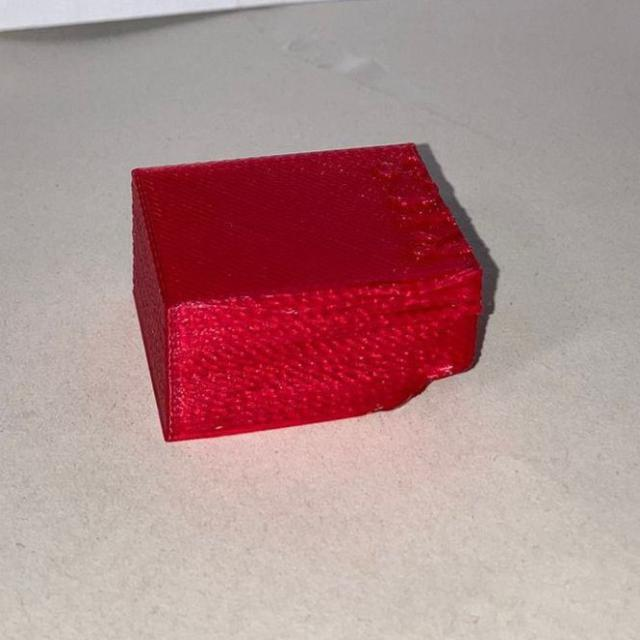Warping: (376, 351, 468, 411)
